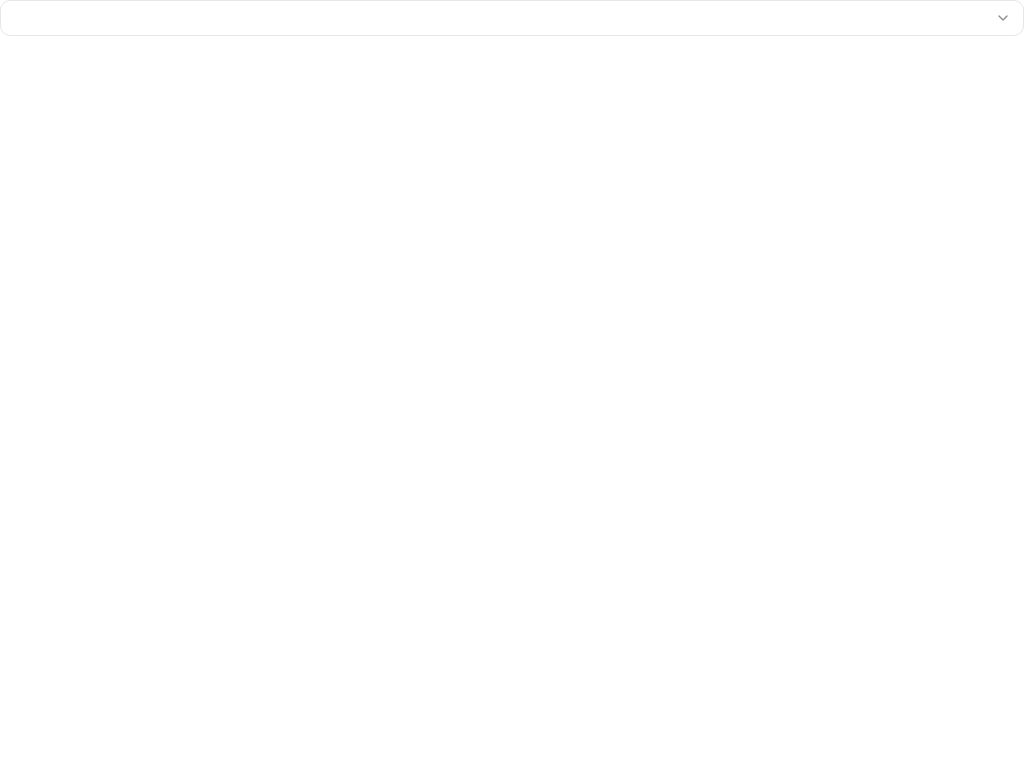
ForeignKeyWidget › renders the fetched relations and reports selection
Later steps or results of the test are not shown.
Click the button. click: x=1003, y=18
box: [0,0,1023,36]
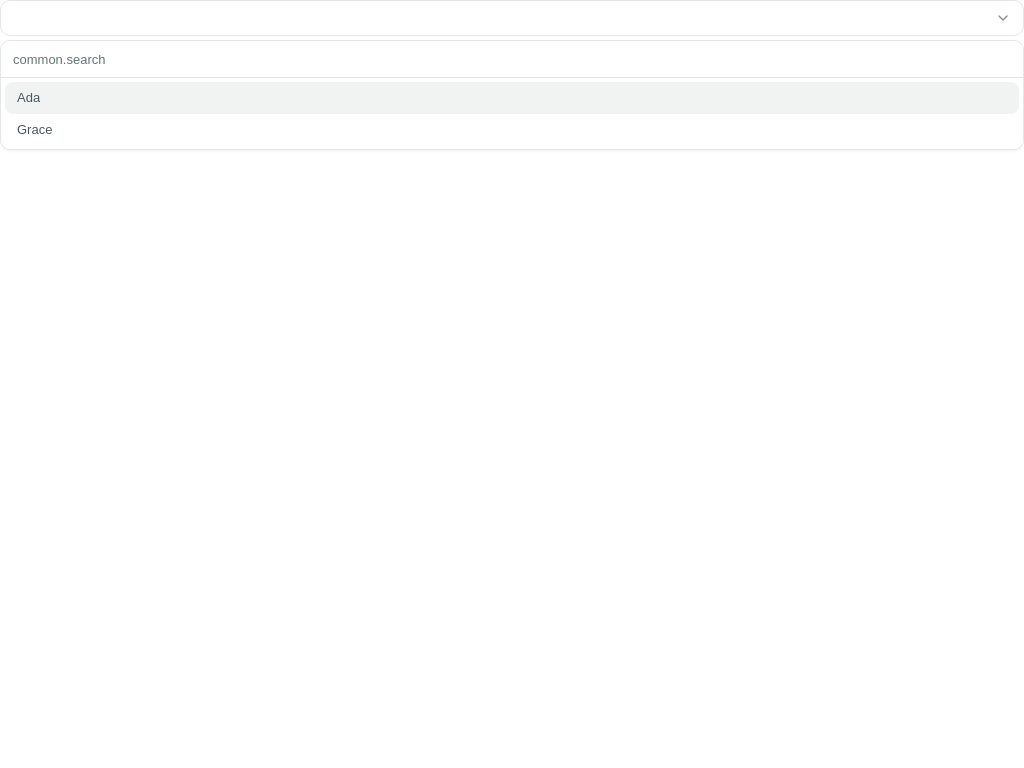
Expected: the text "Ada" is shown, [17,88,40,108]
